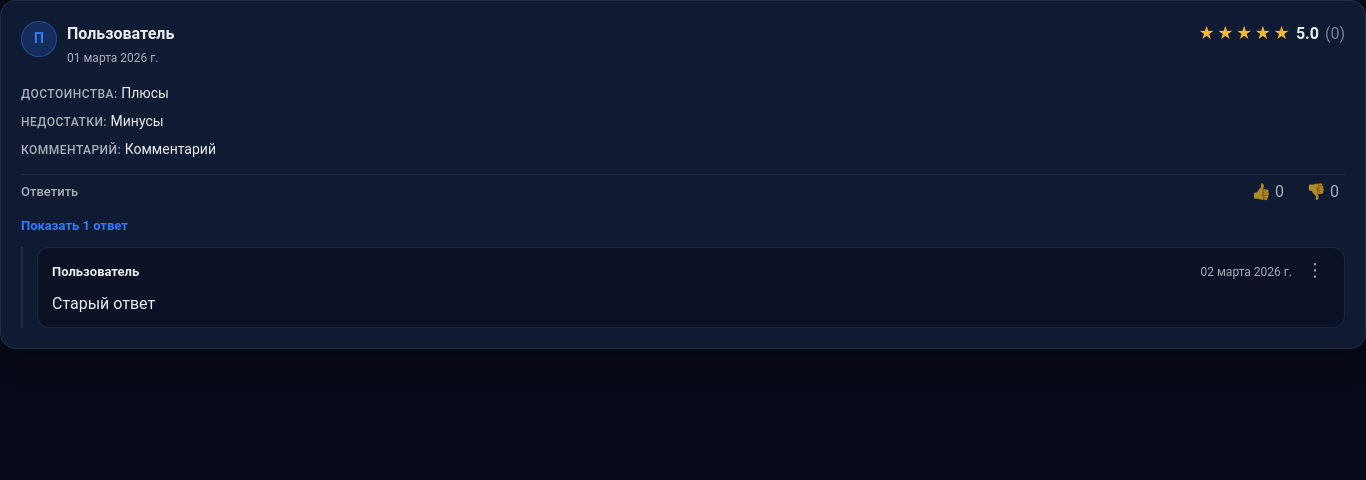
Test case: ReviewsList reply edit › shows readable error when reply update fails and keeps edit mode active
The width and height of the screenshot is (1366, 480).
Click the button "⋮". click: (1315, 270)
box: [1300,259,1330,281]
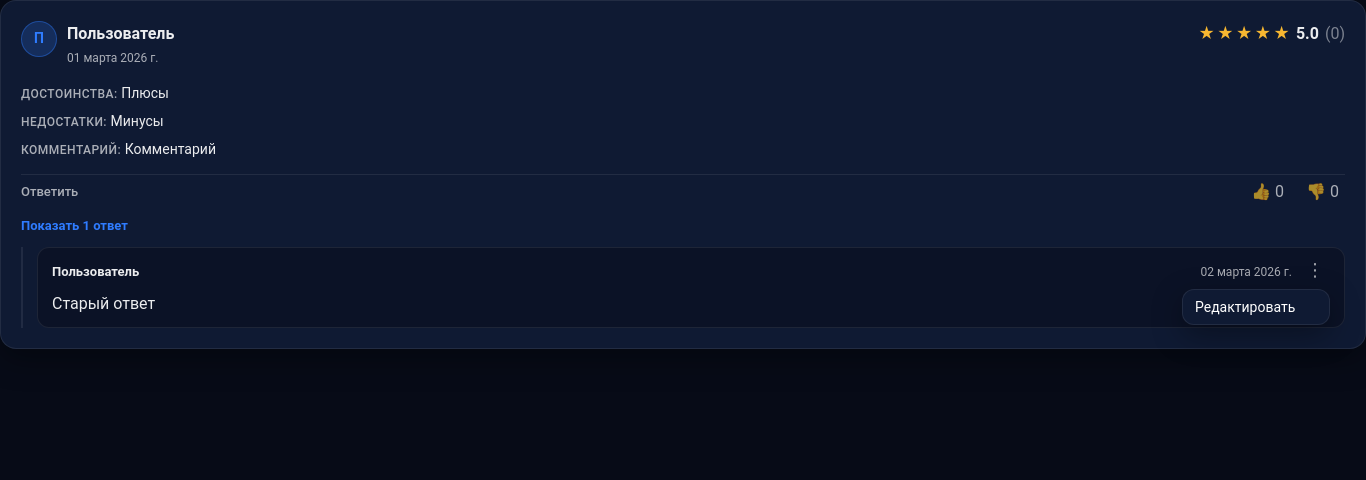
Click the button "Редактировать". click: (1256, 307)
box: [1183,290,1329,324]
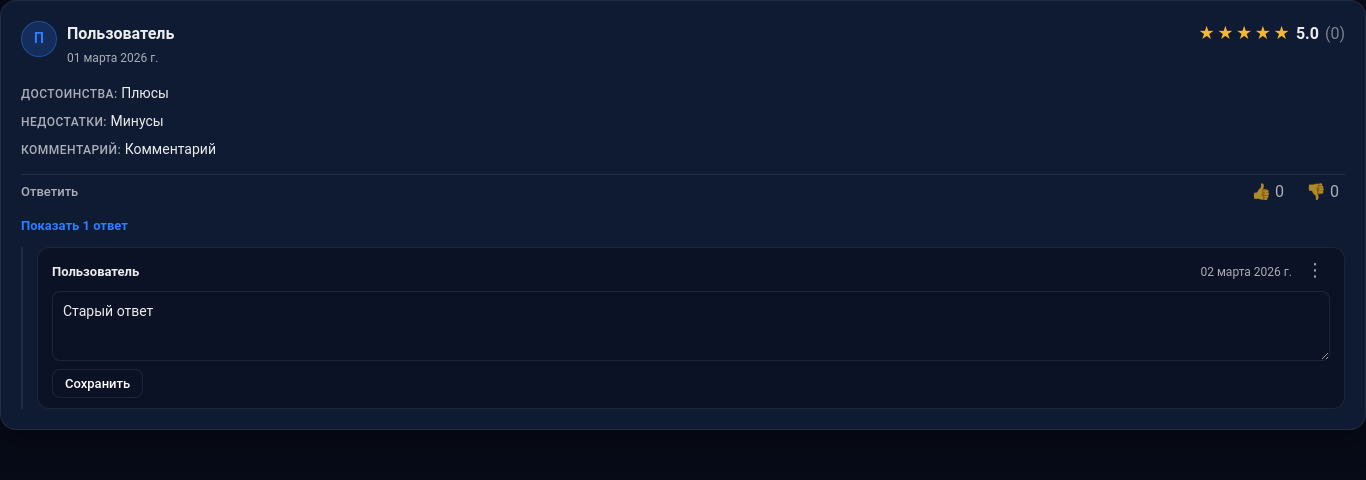
Replace the text in the text box with "Новый текст ответа". click: (691, 326)
box: [52,291,1330,361]
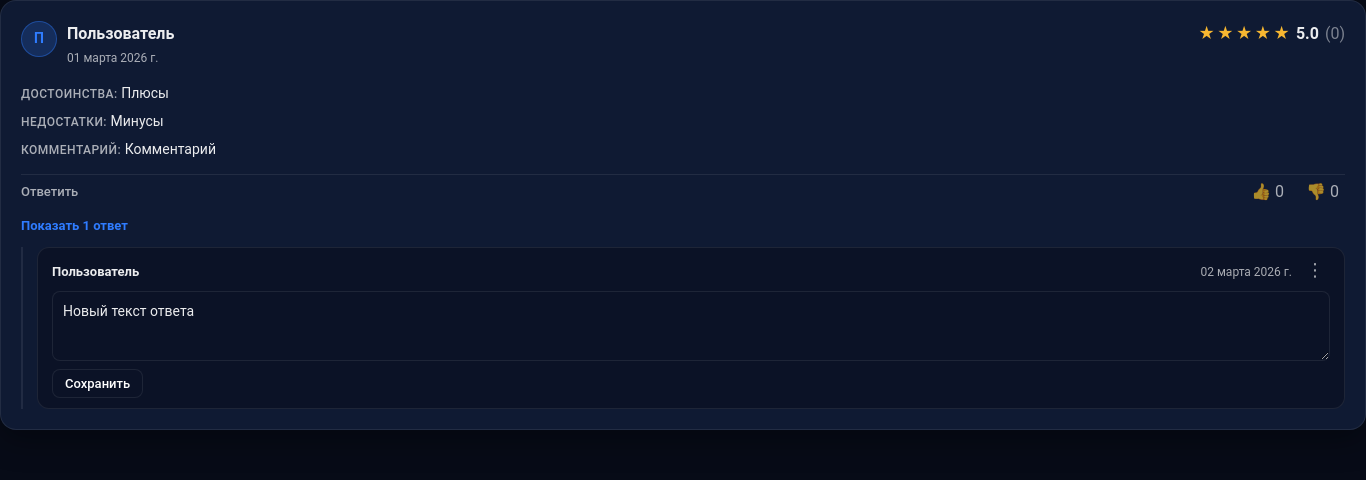
Click the button "Сохранить". click: (98, 383)
box: [52,369,143,398]
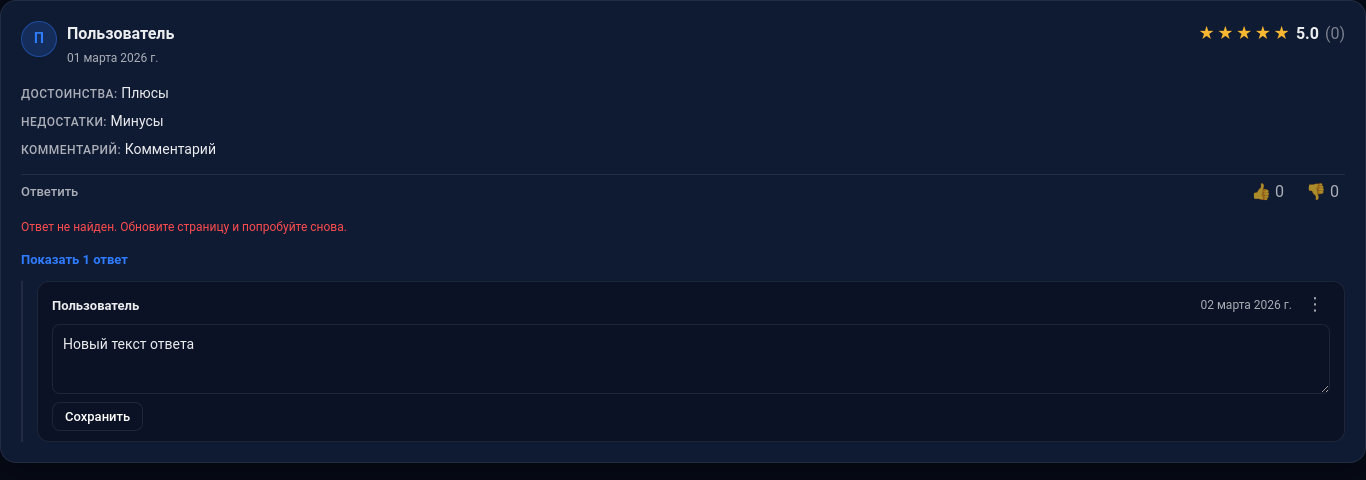
Result: the text "Ответ не найден. Обновите страницу и попробуйте снова." is shown at [21,220,347,234]
